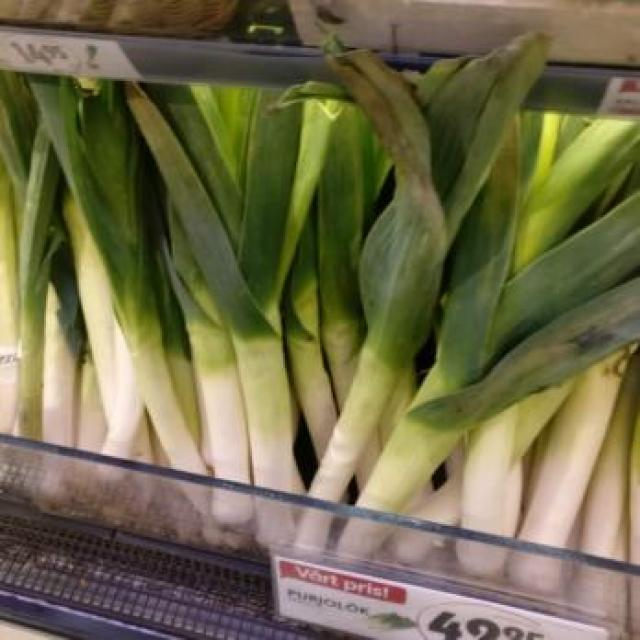leek: (187, 110, 305, 490)
